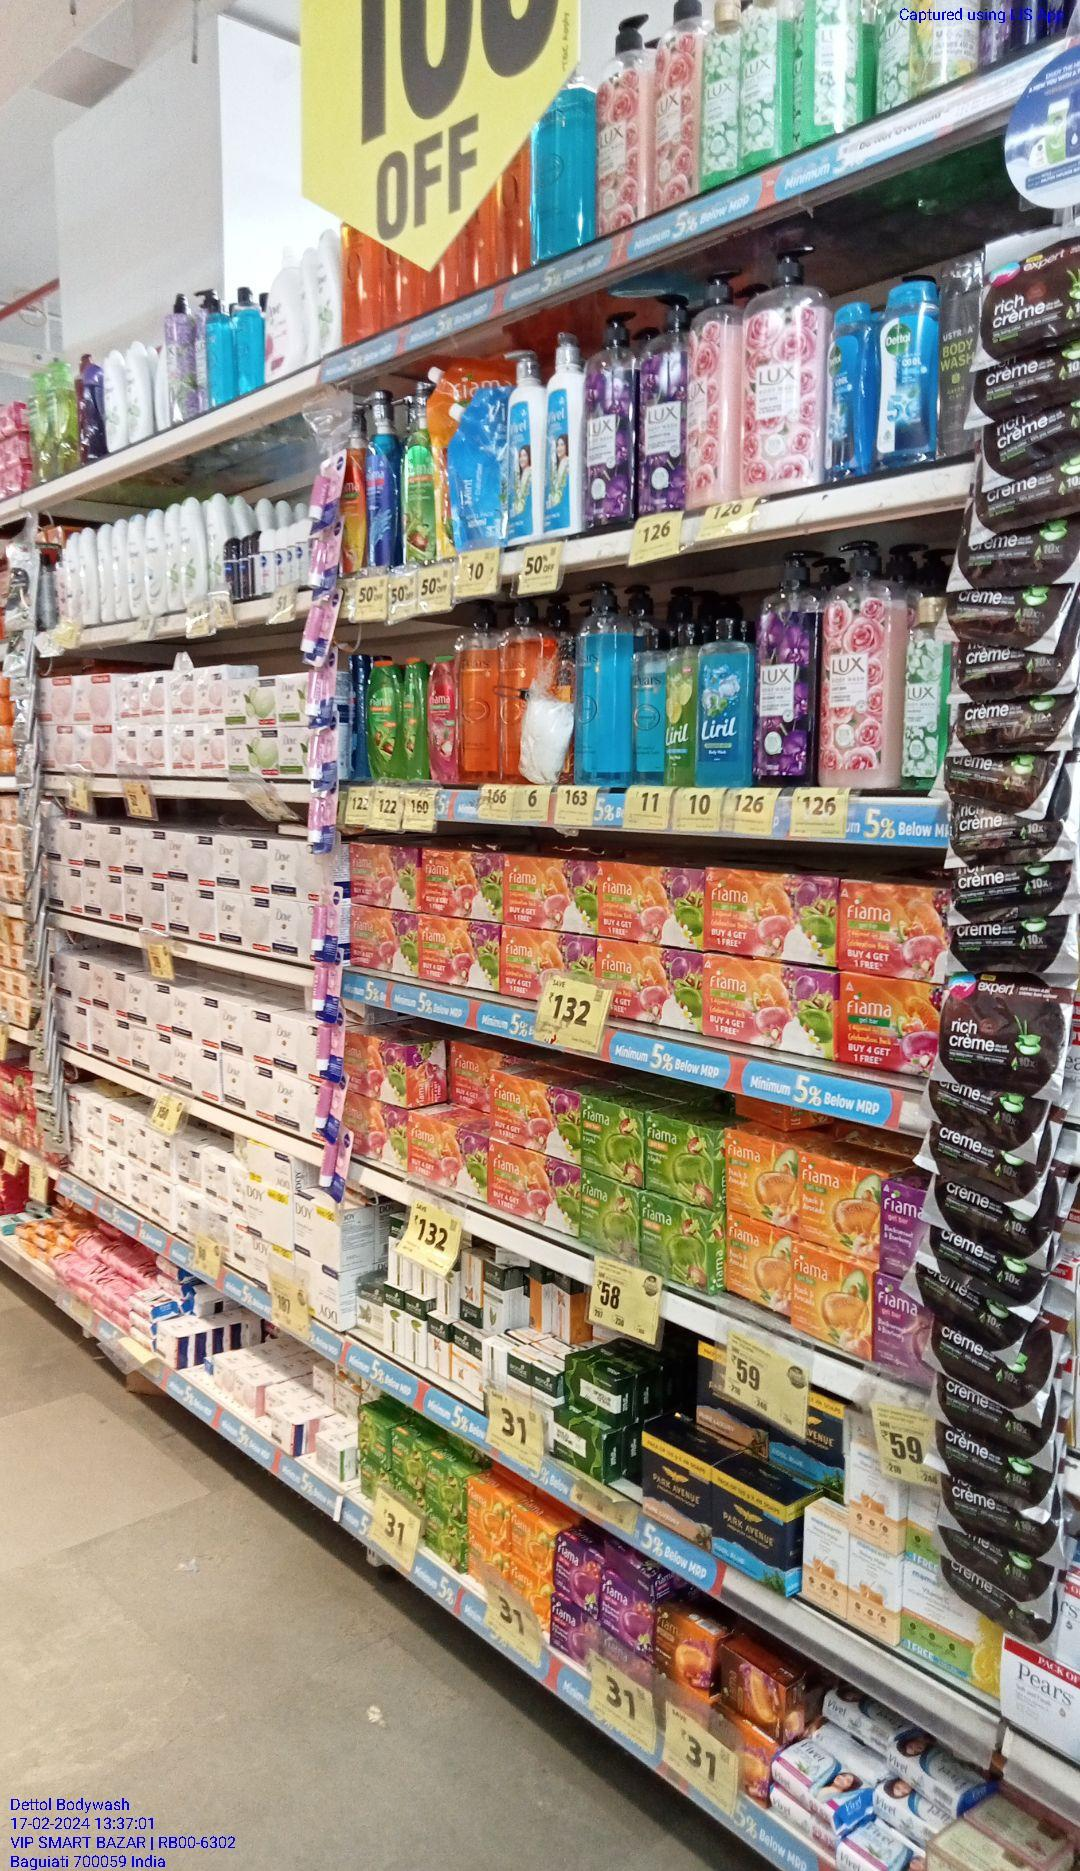Dettol_Bodywash_Cool: (877, 278, 936, 469), (824, 293, 868, 486)
Fiama_Shower_Gel_Lemongrass_and_Jojoba_250ML: (365, 657, 401, 781)
Fiama_Shower_Gel_Patchouli_and_Macadamia_250ML: (423, 655, 462, 784)
Liril_Cooling_Mint_Body_Wash_250ML: (696, 610, 752, 785)
Lux_Body_Wash_Skin_Detox_Freesia_Scent_and_Alove_Vera_245ML: (909, 600, 945, 789)
